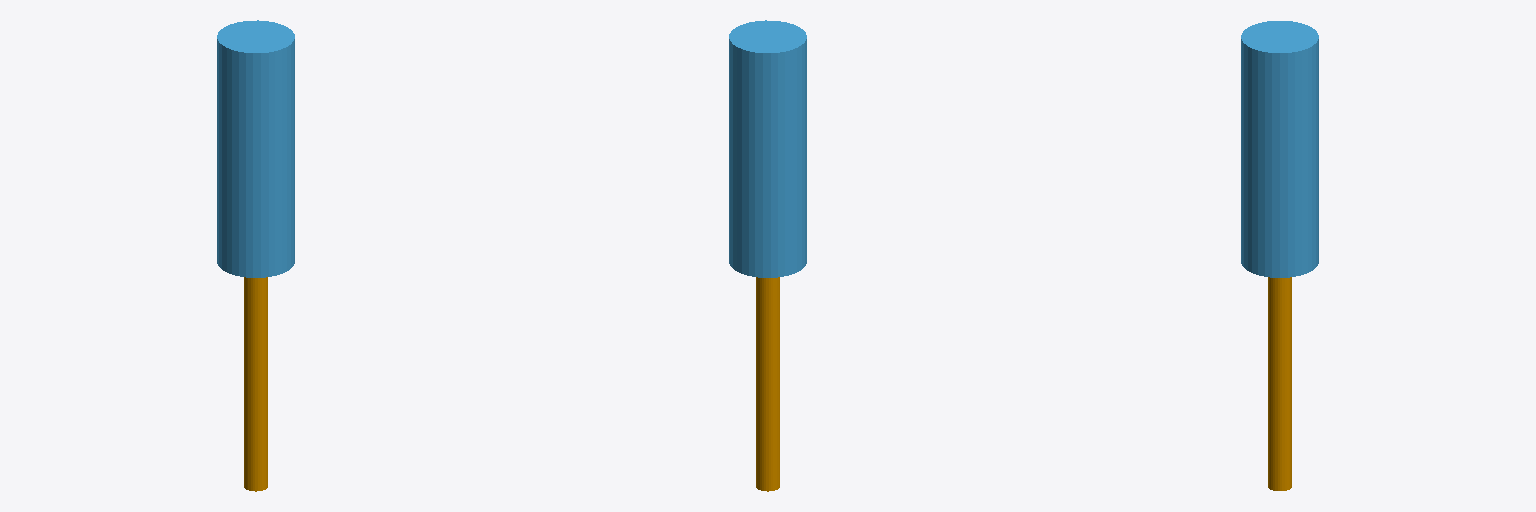
The robot description file, URDF, robot "screwdriver_on_the_table":
<?xml version="1.0" ?>
<!-- this is the one without any virtual joints and links -->
<robot name="screwdriver_on_the_table">
<link name="screwdriver_stick">
    <inertial>
      <mass value="0.05"/>
      <!-- <friction value="1.0"/> -->
      <inertia ixx="0.000041979" ixy="0.0" ixz="0.0" iyy="0.000041979" iyz="0.0" izz="0.000000625"/>
    </inertial>
    <visual>
        <origin rpy="0 0 0" xyz="0 0 0.05"/>
        <geometry>
            <cylinder radius="0.005" length="0.1"/>
        </geometry>
        <!-- <material name="White">
	 	    <color rgba="0.9 0.9 0.9 0.5"/>
        </material> -->
    </visual>
    <collision>
        <origin rpy="0 0 0" xyz="0 0 0.05"/>
        <geometry>
            <cylinder radius="0.005" length="0.1"/>
        </geometry>
    </collision>
</link>

<gazebo reference="screwdriver_body">
    <mu1>0.806592</mu1>
    <mu2>0.376233</mu2>
    <!-- Isaac Sim maps mu1/mu2 to PhysX static/dynamic friction during URDF→USD import -->
</gazebo>

<joint name="screwdriver_stick_body_joint" type="fixed">
    <parent link="screwdriver_stick"/>
    <child link="screwdriver_body"/>
    <origin rpy="0 0 0" xyz="0 0 0.1"/> 
    <axis xyz="0 0 1"/>
</joint>

<link name="screwdriver_body">
    <inertial>
      <mass value="0.168812"/>
      <inertia ixx="0.000151111" ixy="0.0" ixz="0.0" iyy="0.000151111" iyz="0.0" izz="0.000020870"/>
    </inertial>
    <visual>
        <origin rpy="0 0 0" xyz="0 0 0.05"/>
        <geometry>
            <cylinder radius="0.015724" length="0.1"/>
        </geometry>
        <!-- <material name="Red1">
	 	    <color rgba="0.9 0. 0. 0.5"/>
        </material> -->
    </visual>
    <collision>
        <origin rpy="0 0 0" xyz="0 0 0.05"/>
        <geometry>
            <cylinder radius="0.015724" length="0.1"/>
        </geometry>
    </collision>
</link>

<!-- <joint name="screwdriver_body_cap_joint" type="revolute">
    <parent link="screwdriver_body"/>
    <child link="screwdriver_cap"/>
    <origin rpy="0 0 0" xyz="0 0 0.1"/> 
    <axis xyz="0 0 1"/>
</joint>

<link name="screwdriver_cap">
    <inertial>
      <mass value="0.005"/>
      <inertia ixx="0.00001" ixy="0.0" ixz="0.0" iyy="0.000005" iyz="0.0" izz="0.000005"/>
    </inertial>
    <visual>
        <origin rpy="0 0 0" xyz="0 0 0.0006"/>
        <geometry>
            <cylinder radius="0.02" length="0.001"/>
        </geometry>
        <material name="Yellow">
	 	    <color rgba="0.9 0.9 0. 1.0"/>
        </material>
    </visual>
    <collision>
        <origin rpy="0 0 0" xyz="0 0 0.0005"/>
        <geometry>
            <cylinder radius="0.02" length="0.001"/>
        </geometry>
    </collision>
</link> -->

</robot>

--- What the picture shows (computed from the rendered views, not written in the file) ---
Views: 3 orthographic renders of the robot side by side, from view 1: azimuth 30°, elevation 25°; view 2: azimuth 150°, elevation 25°; view 3: azimuth 270°, elevation 25°.
Model screwdriver_on_the_table with 2 links and 1 joints (1 fixed), rooted at screwdriver_stick, posed every joint at zero.
Links seen in each view (by area): view 1: screwdriver_body, screwdriver_stick; view 2: screwdriver_body, screwdriver_stick; view 3: screwdriver_body, screwdriver_stick.
Boxes of the visible links, left/top/right/bottom form: screwdriver_body: left=217, top=20, right=294, bottom=277; screwdriver_stick: left=244, top=277, right=267, bottom=491; screwdriver_body: left=729, top=20, right=806, bottom=277; screwdriver_stick: left=756, top=277, right=779, bottom=491; screwdriver_body: left=1241, top=21, right=1318, bottom=277; screwdriver_stick: left=1268, top=277, right=1291, bottom=490.
Size in the robot's own frame: 0.0314 by 0.0314 by 0.2 metres.
Geometry: primitives only (box / cylinder / sphere), no mesh files.
